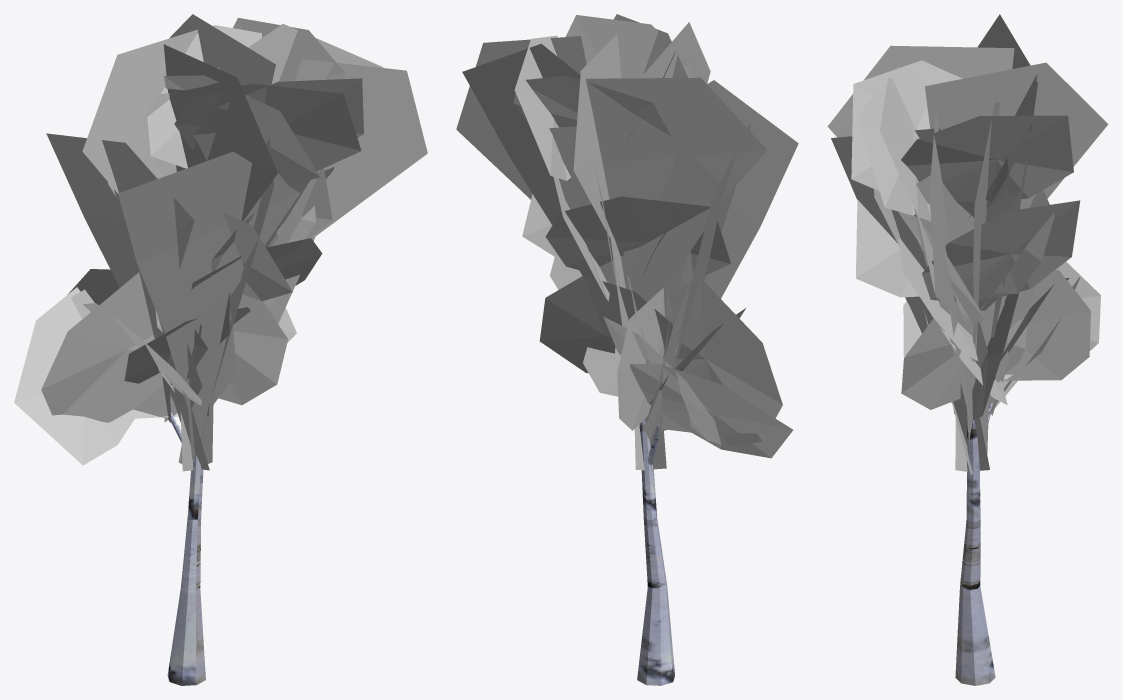
The model's file is Birch_004.fbx.
3 renders of one model, left to right at view 1: azimuth 30°, elevation 25°; view 2: azimuth 150°, elevation 25°; view 3: azimuth 270°, elevation 25°, orthographic.
Parts seen in each view (by area): view 1: Tree_Birch_Leaves4, Tree_Birch_Trunk4; view 2: Tree_Birch_Leaves4, Tree_Birch_Trunk4; view 3: Tree_Birch_Leaves4, Tree_Birch_Trunk4.
Part boxes in pixels (x1=…): Tree_Birch_Leaves4: x1=14, y1=14, x2=427, y2=471; Tree_Birch_Trunk4: x1=167, y1=410, x2=205, y2=685; Tree_Birch_Leaves4: x1=456, y1=14, x2=798, y2=471; Tree_Birch_Trunk4: x1=637, y1=302, x2=674, y2=685; Tree_Birch_Leaves4: x1=827, y1=14, x2=1108, y2=474; Tree_Birch_Trunk4: x1=955, y1=403, x2=995, y2=685.
Bounding box in the file's own units: 967 × 1541 × 617.
